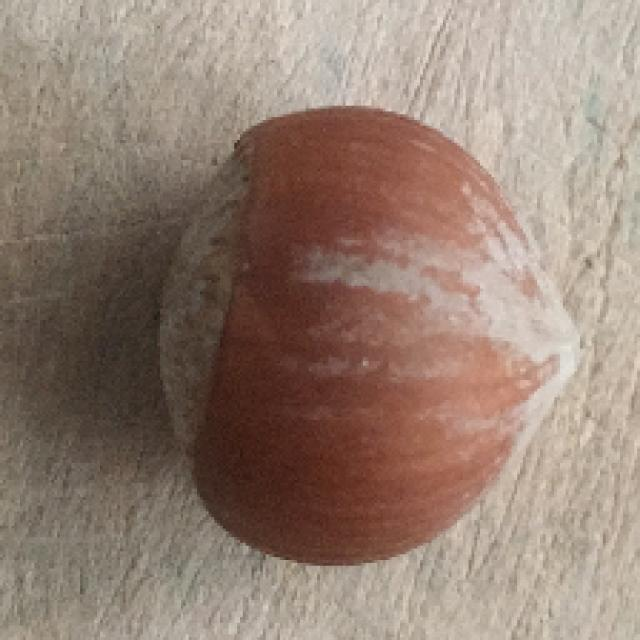qualityHazelnut: (147, 106, 583, 571)
